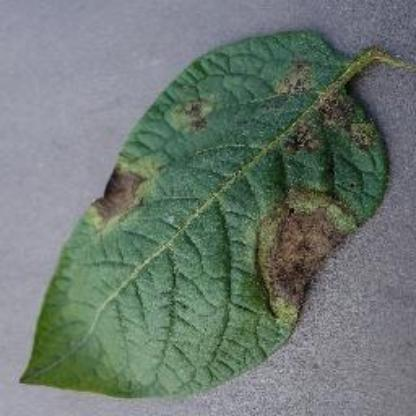Late-Blight: (15, 27, 391, 404)
